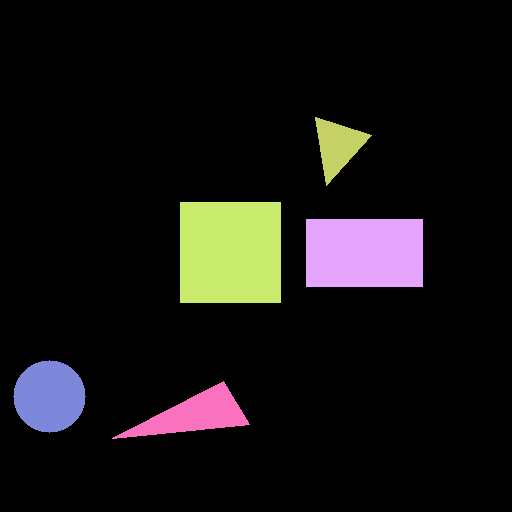circle: (13, 360, 85, 432)
rectangle: (306, 219, 422, 286)
square: (180, 202, 280, 302)
triangle: (112, 381, 249, 438), (315, 117, 371, 185)
